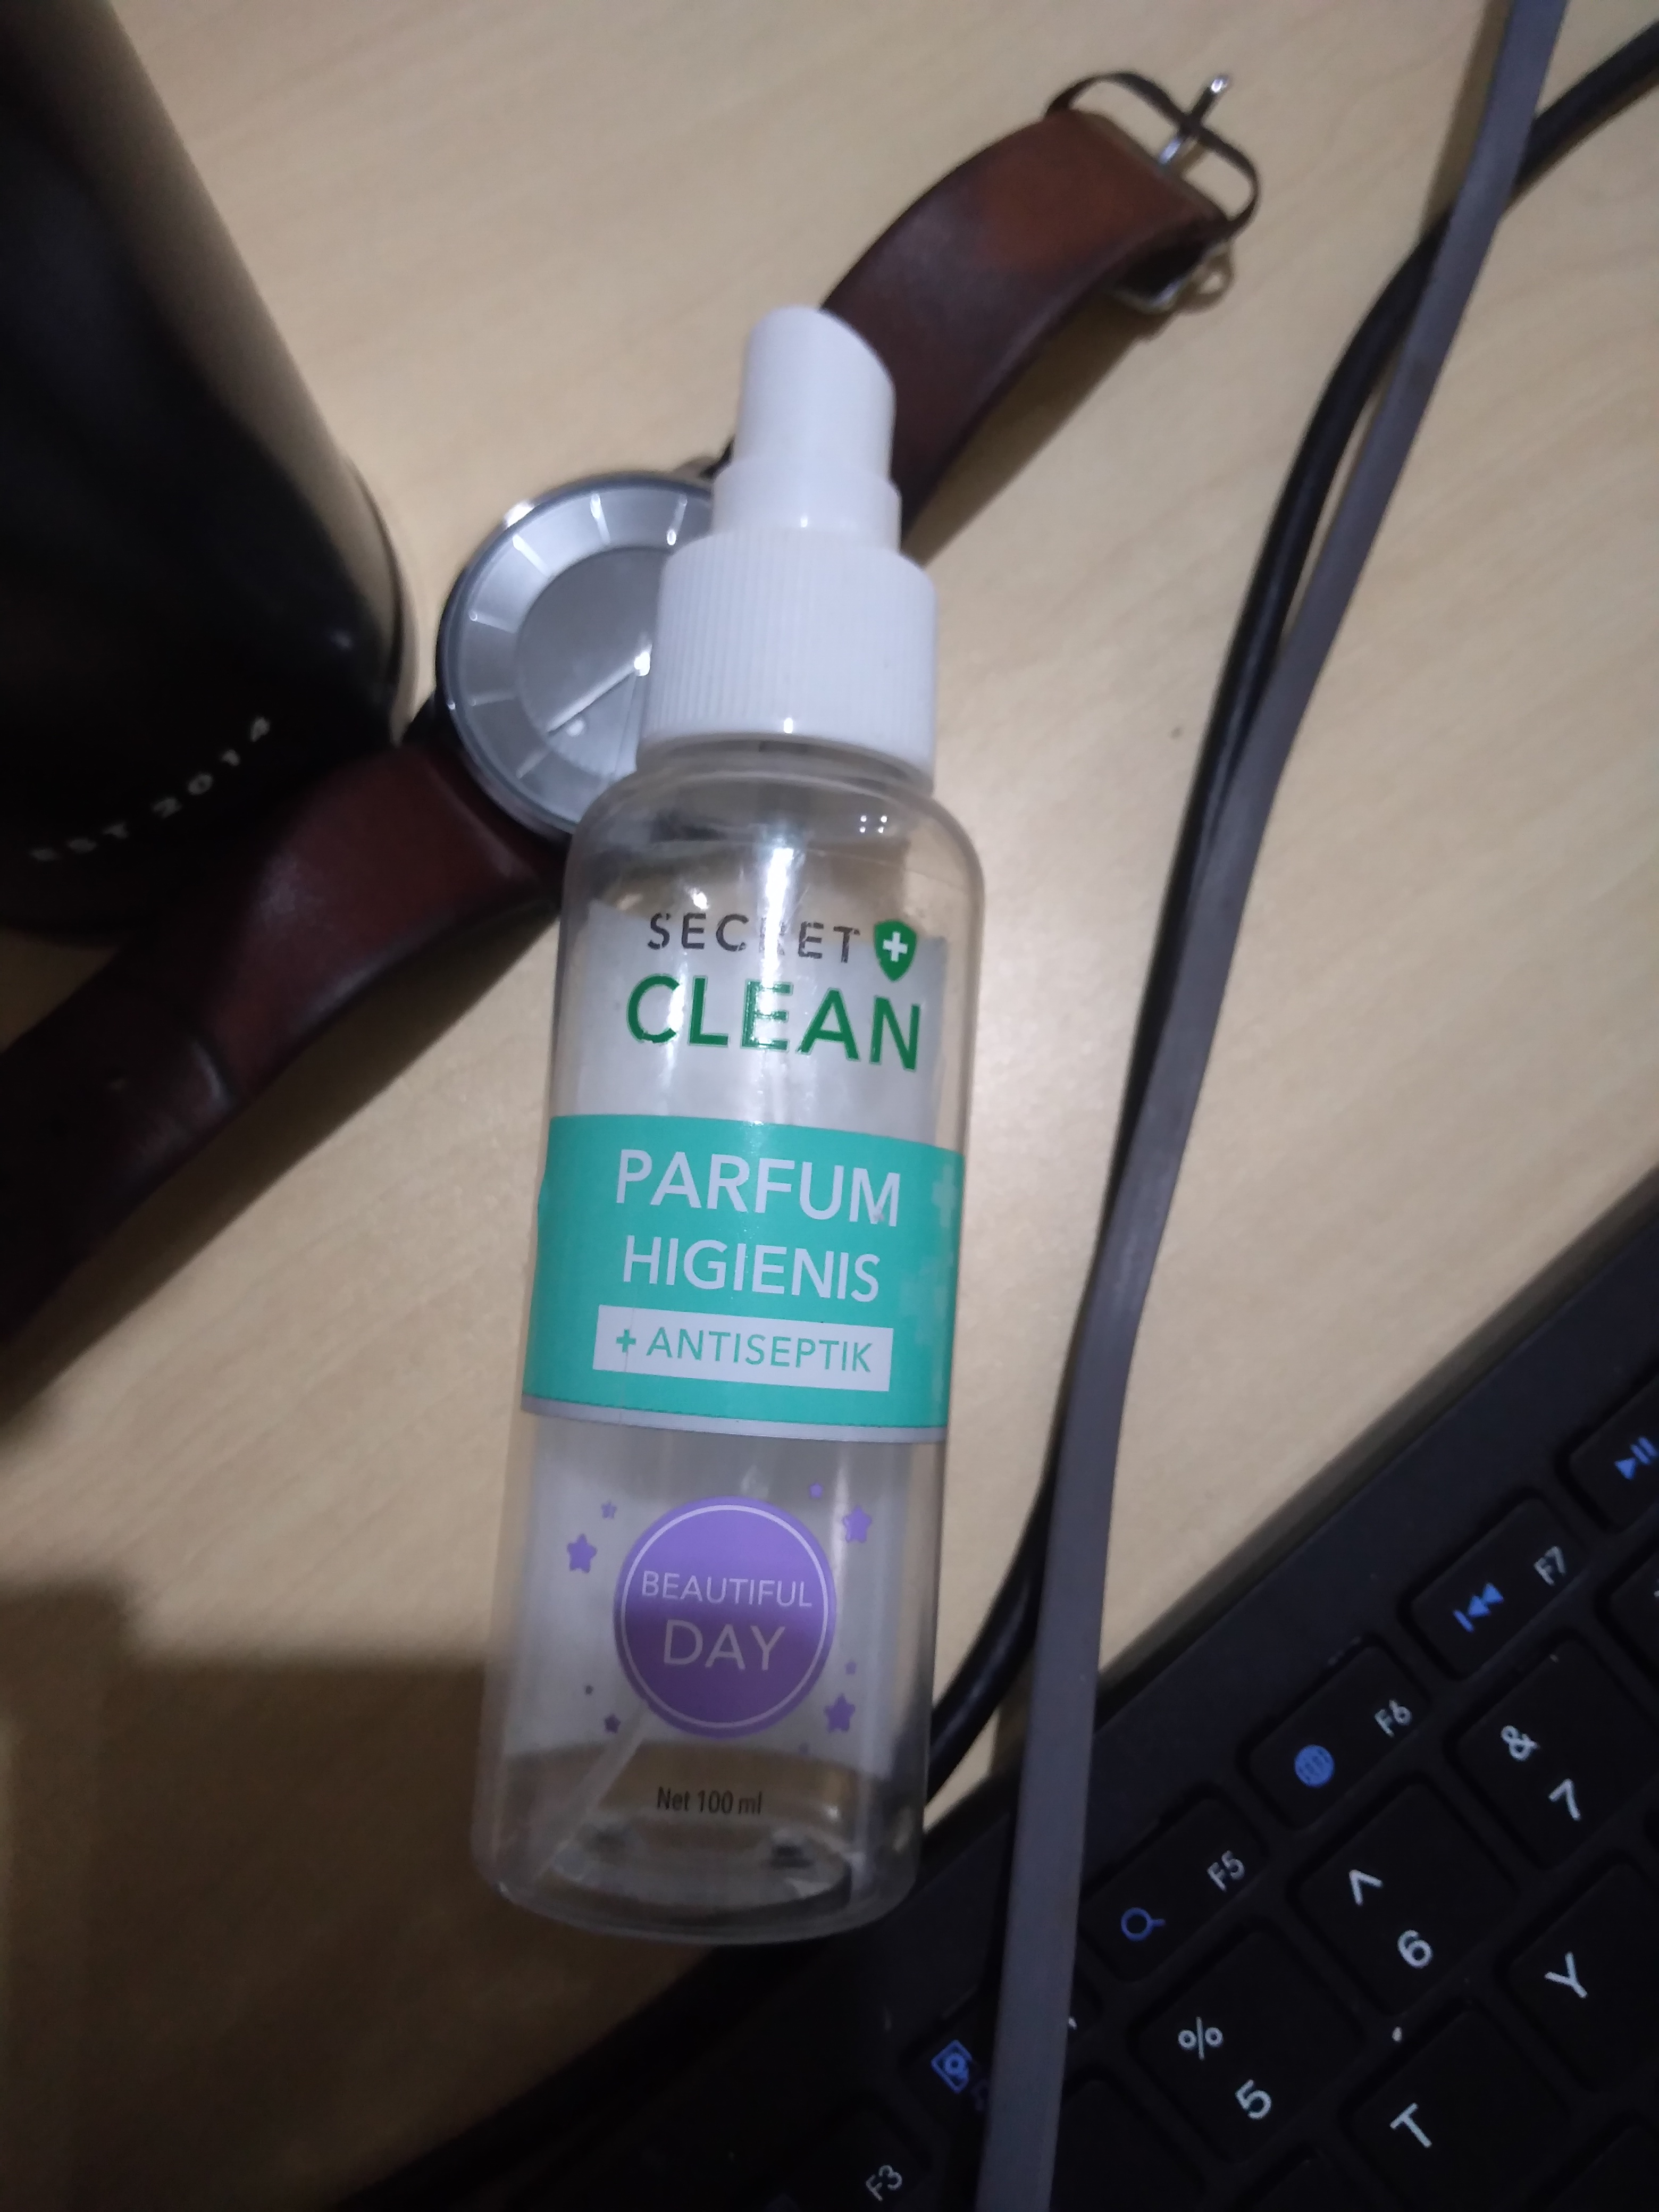hand sanitizer: (376, 232, 1042, 1972)
